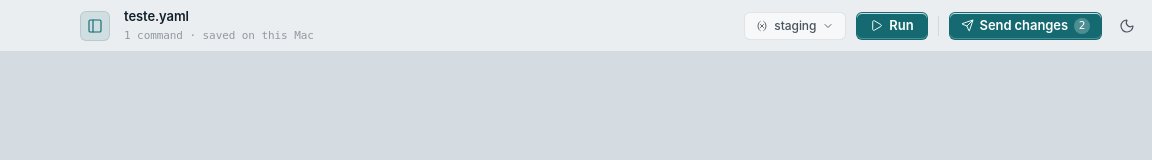
Toolbar › flips the appearance and persists it
The image size is (1152, 160).
What coordinates should you click on to do the following:
click the button named "Dark appearance"
I would click on:
 (1127, 26)
Its box is x1=1112 y1=10 x2=1142 y2=40.
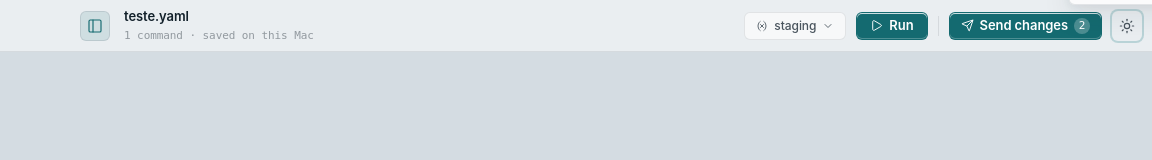
Check: the button named "Light appearance" is shown, box x1=1112 y1=10 x2=1142 y2=40
